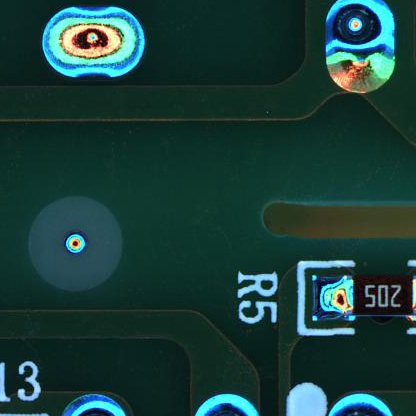spot: (40, 5, 148, 79), (322, 1, 397, 97)
